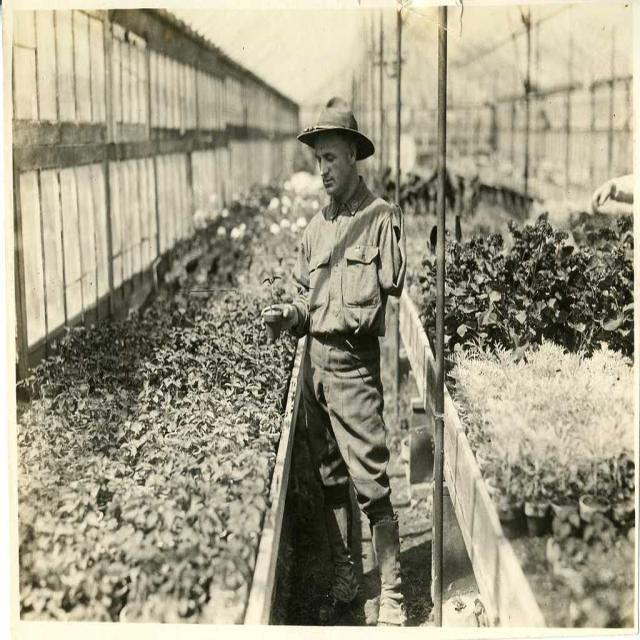Hat: (299, 92, 376, 164)
